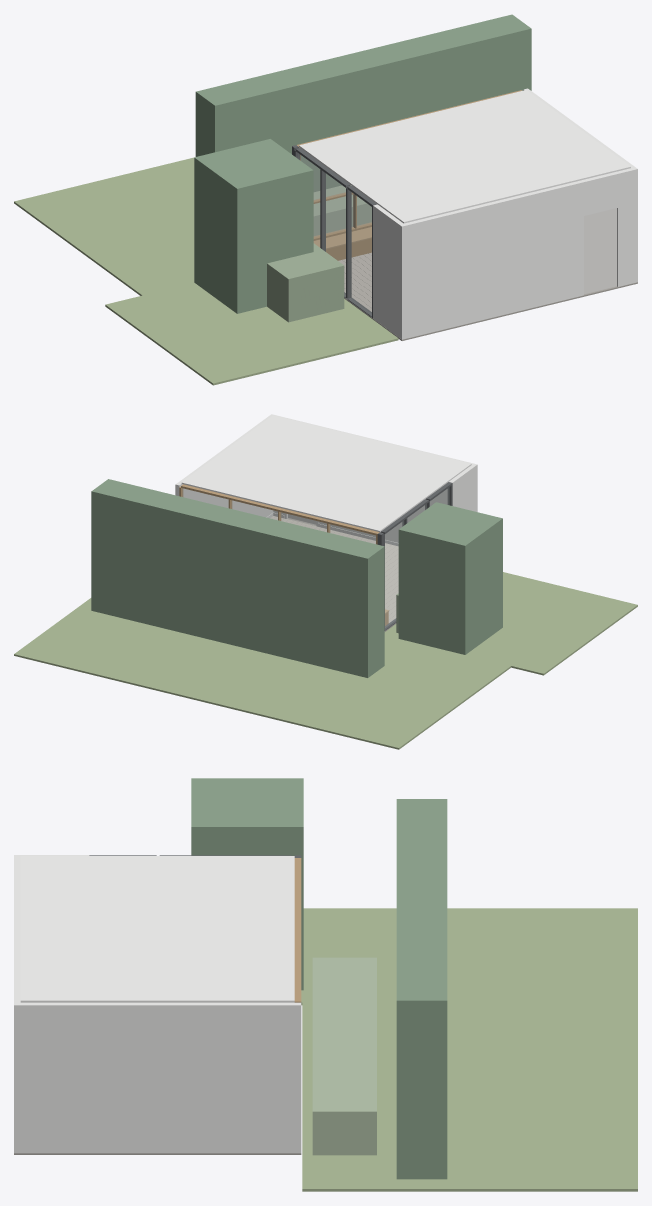
3 views of the same model, one above another, from view 1: azimuth 30°, elevation 25°; view 2: azimuth 150°, elevation 25°; view 3: azimuth 270°, elevation 25° (orthographic). The views are drawn at different scales.
Parts seen in each view (by area): view 1: Garden, Ceiling, Wall_S, Door_Sliding_Glass, Wall_W, Door, Door_Sliding, Window_N_Glass, Floor, Bench, Wall_E, Window_N; view 2: Garden, Ceiling, Window_N_Glass, Door_Sliding_Glass, Floor, Wall_E, Window_N, Wall_W, Wall_S, Door_Sliding; view 3: Garden, Wall_E, Ceiling, Window_N, Wall_S.
Part boxes in pixels (left/top/right/bottom): Garden: left=14, top=14, right=531, bottom=385; Ceiling: left=299, top=90, right=630, bottom=223; Wall_S: left=404, top=168, right=633, bottom=338; Door_Sliding_Glass: left=298, top=153, right=371, bottom=313; Wall_W: left=373, top=204, right=406, bottom=339; Door: left=584, top=208, right=616, bottom=294; Door_Sliding: left=292, top=145, right=376, bottom=318; Window_N_Glass: left=301, top=156, right=371, bottom=236; Floor: left=338, top=252, right=637, bottom=340; Bench: left=313, top=227, right=371, bottom=260; Wall_E: left=523, top=88, right=637, bottom=282; Window_N: left=297, top=90, right=521, bottom=240; Garden: left=14, top=479, right=637, bottom=749; Ceiling: left=181, top=415, right=471, bottom=532; Window_N_Glass: left=182, top=488, right=375, bottom=543; Door_Sliding_Glass: left=385, top=488, right=449, bottom=627; Floor: left=270, top=516, right=398, bottom=631; Wall_E: left=175, top=414, right=274, bottom=517; Window_N: left=179, top=484, right=379, bottom=544; Wall_W: left=449, top=463, right=477, bottom=511; Wall_S: left=273, top=415, right=473, bottom=542; Door_Sliding: left=377, top=482, right=452, bottom=630; Garden: left=191, top=778, right=637, bottom=1191; Wall_E: left=14, top=1002, right=301, bottom=1153; Ceiling: left=20, top=856, right=294, bottom=1002; Window_N: left=294, top=858, right=301, bottom=1002; Wall_S: left=14, top=858, right=20, bottom=1002.
Bounding box in the file's own units: 12.84 × 3.56 × 11.12.
